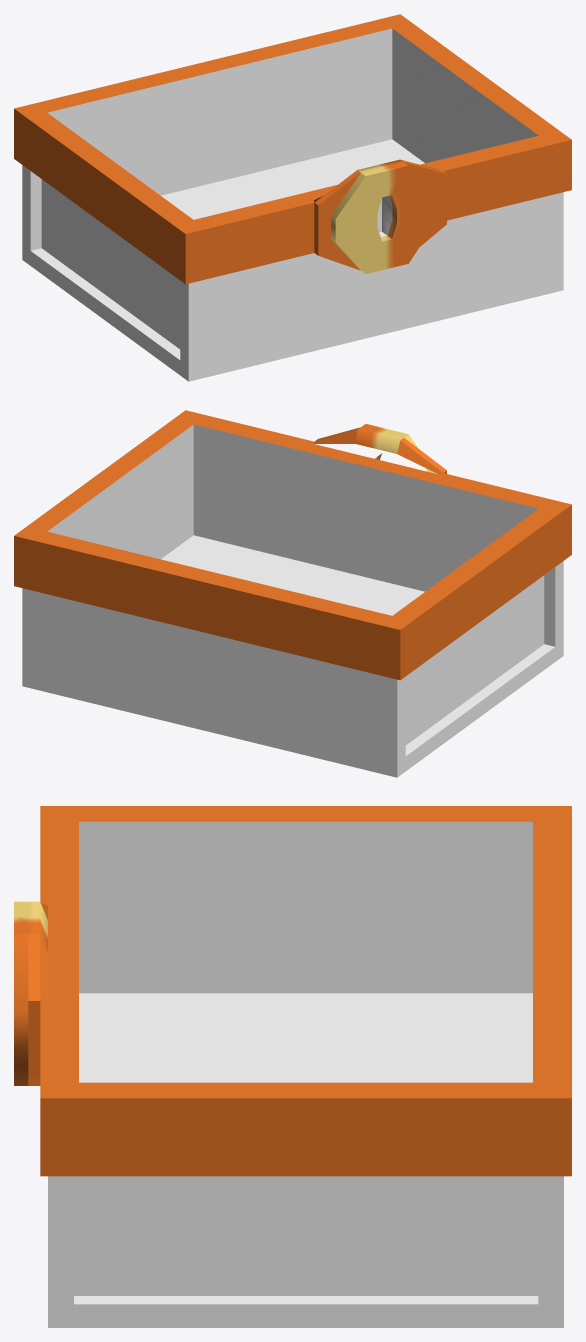
Rendered from DesertChestBottom.glb.
The picture shows the model from 3 angles, top to bottom: view 1: azimuth 30°, elevation 25°; view 2: azimuth 150°, elevation 25°; view 3: azimuth 270°, elevation 25°; orthographic projection. The views are drawn at different scales.
Visible parts, largest first — view 1: DesertChestBottom; view 2: DesertChestBottom; view 3: DesertChestBottom.
Part boxes in pixels (<box>): DesertChestBottom: <box>14,14,571,381</box>; DesertChestBottom: <box>14,410,571,777</box>; DesertChestBottom: <box>14,806,571,1327</box>.
Size of the model in its own units: 1.18 by 0.5059 by 0.9537.
1 material, 1 textured.
